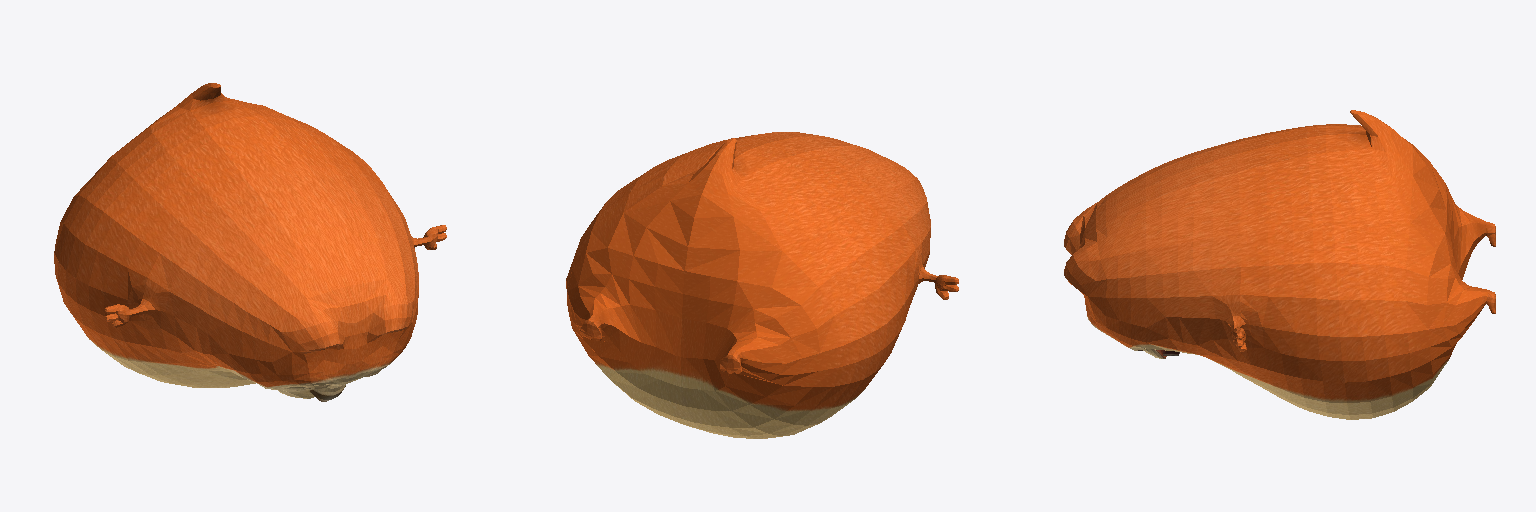
The picture shows the model from 3 angles: view 1: azimuth 30°, elevation 25°; view 2: azimuth 150°, elevation 25°; view 3: azimuth 270°, elevation 25°; orthographic projection.
Parts seen in each view (by area): view 1: Object.1; view 2: Object.1; view 3: Object.1.
Boxes of the visible parts, x1=… form: Object.1: x1=54, y1=83, x2=446, y2=401; Object.1: x1=566, y1=132, x2=958, y2=438; Object.1: x1=1064, y1=110, x2=1495, y2=419.
Size of the model in its own units: 15 by 12.16 by 16.45.
Materials: 1 (1 with a texture image).